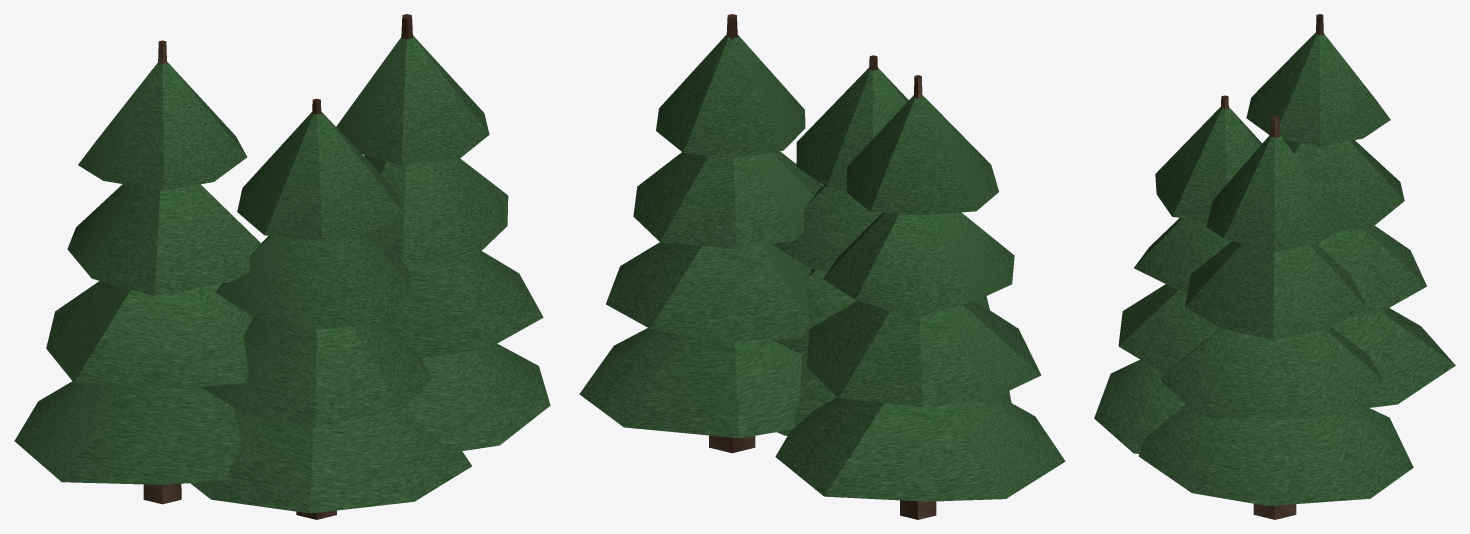
The model's file is resource_lumber_0.glb.
3 renders of one model, left to right at view 1: azimuth 30°, elevation 25°; view 2: azimuth 150°, elevation 25°; view 3: azimuth 270°, elevation 25°, orthographic. The views are drawn at different scales.
Visible parts, largest first — view 1: resource_lumber_0; view 2: resource_lumber_0; view 3: resource_lumber_0.
Part boxes in pixels (x1,y1,x2,y2): resource_lumber_0: [14, 14, 550, 519]; resource_lumber_0: [579, 14, 1065, 519]; resource_lumber_0: [1094, 14, 1455, 519].
Size of the model in its own units: 6.93 by 6.32 by 5.19.
Materials: 2 (2 with a texture image).
